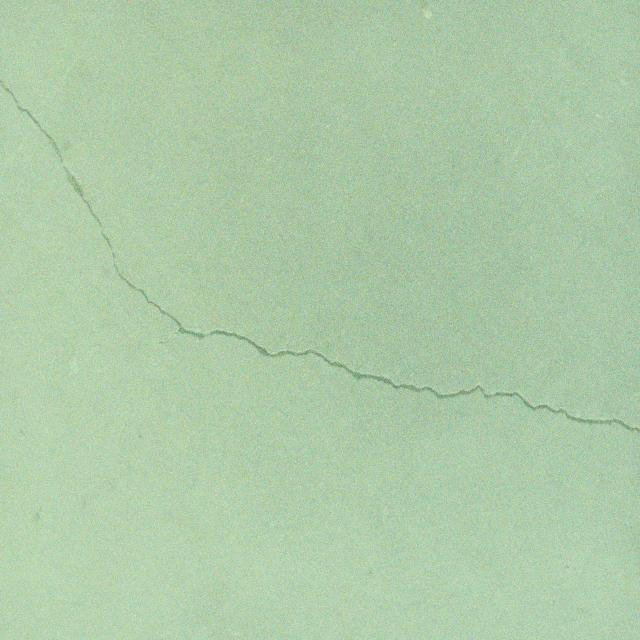crack: (0, 78, 640, 435)
